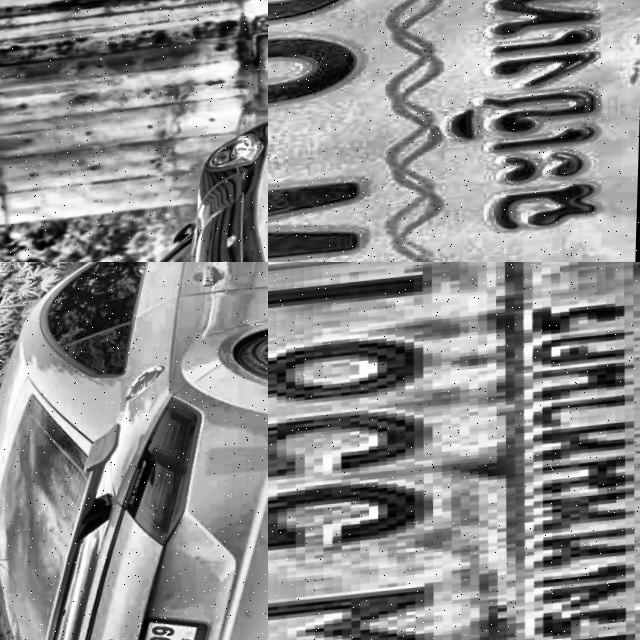license-plate: (268, 262, 640, 640), (268, 0, 640, 262), (119, 614, 217, 640)
